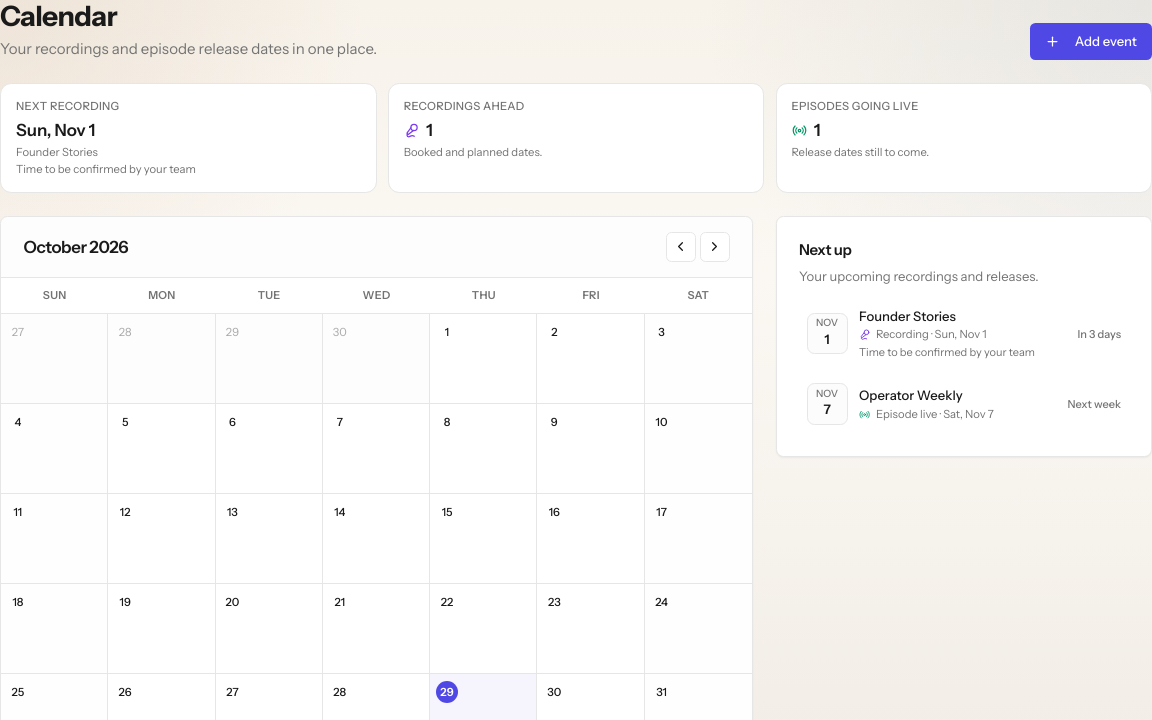
Test: PortalCalendar › opens the booking detail dialog from an upcoming event
The width and height of the screenshot is (1152, 720).
Click the text "Founder Stories" below "Your upcoming recordings and releases." at (907, 316), box left=859, top=308, right=956, bottom=324
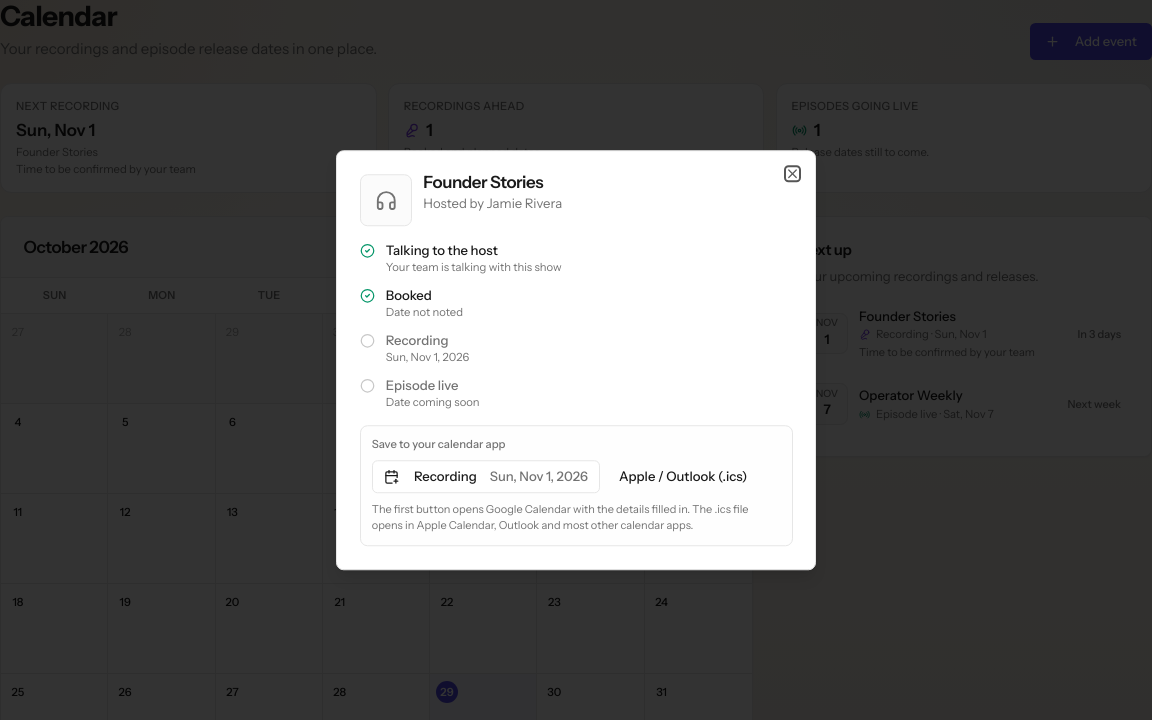
Expected: the text "Hosted by Jamie Rivera" is shown, left=423, top=194, right=562, bottom=213
Expected: the list named "Progress" is shown, left=360, top=242, right=562, bottom=409
Expected: the text "Talking to the host" is shown, left=386, top=242, right=498, bottom=258
